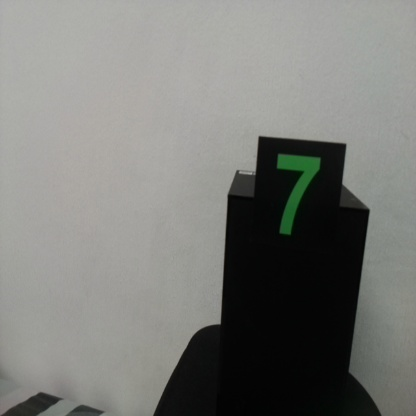id_7: (256, 137, 346, 283)
